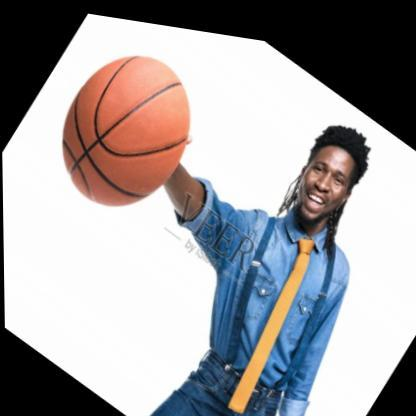basketball: (34, 16, 217, 239)
